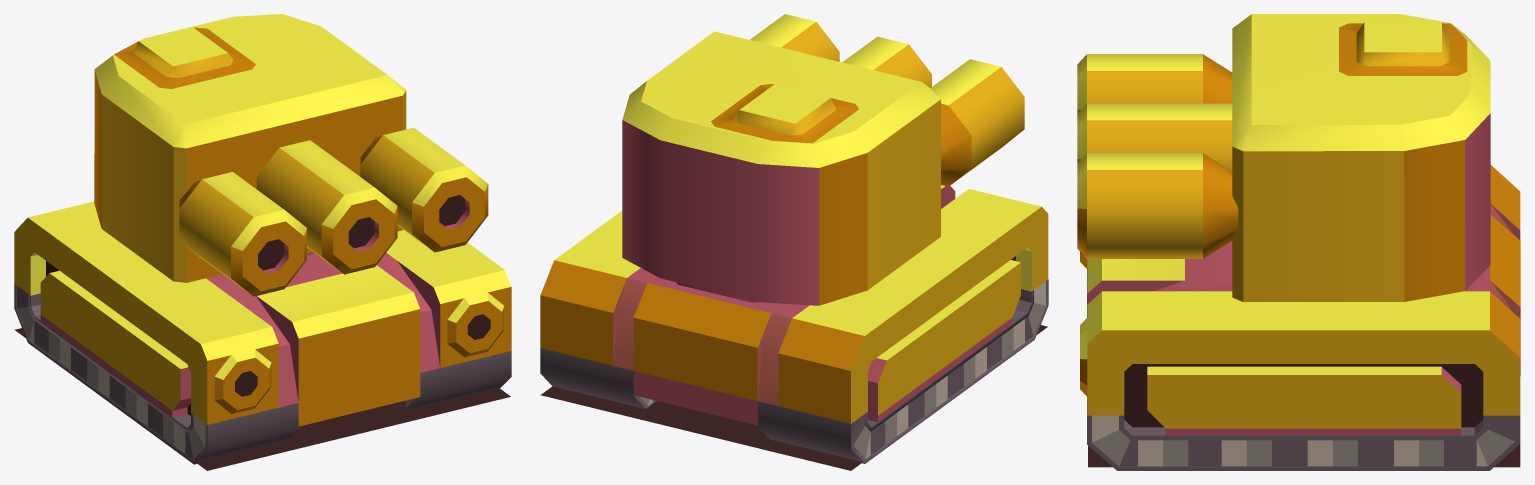
Rendered from MegaTankMesh.YellowComet.glb.
3 views of the same model, side by side, from view 1: azimuth 30°, elevation 25°; view 2: azimuth 150°, elevation 25°; view 3: azimuth 270°, elevation 25° (orthographic). The views are drawn at different scales.
Visible parts, largest first — view 1: MegaTankMesh.YellowComet; view 2: MegaTankMesh.YellowComet; view 3: MegaTankMesh.YellowComet.
Boxes of the visible parts, x1,y1,x2,y2 form: MegaTankMesh.YellowComet: [14, 14, 511, 470]; MegaTankMesh.YellowComet: [540, 14, 1048, 470]; MegaTankMesh.YellowComet: [1077, 14, 1520, 470].
Size of the model in its own units: 2 by 1.86 by 2.25.
1 material, 1 textured.
